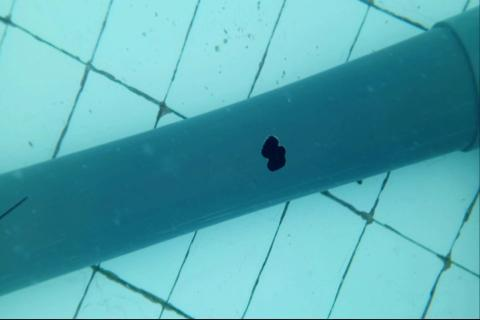kebocoran: (260, 133, 288, 172)
keretakan: (0, 195, 28, 222)
